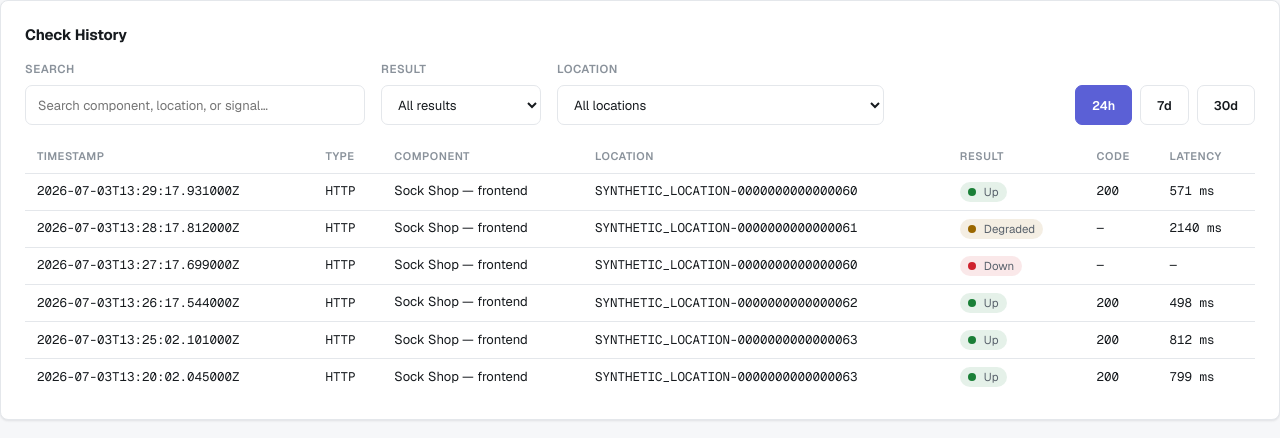
CheckHistoryPage › the search input filters rows by component, location, or signal_key text, client-side (AC1)
The width and height of the screenshot is (1280, 438).
Expected: the table is shown, [25,141,1255,395]
Step 1. Type "frontend-tls" into the search field labelled "Search" → (195, 105), box [25,85,365,125]
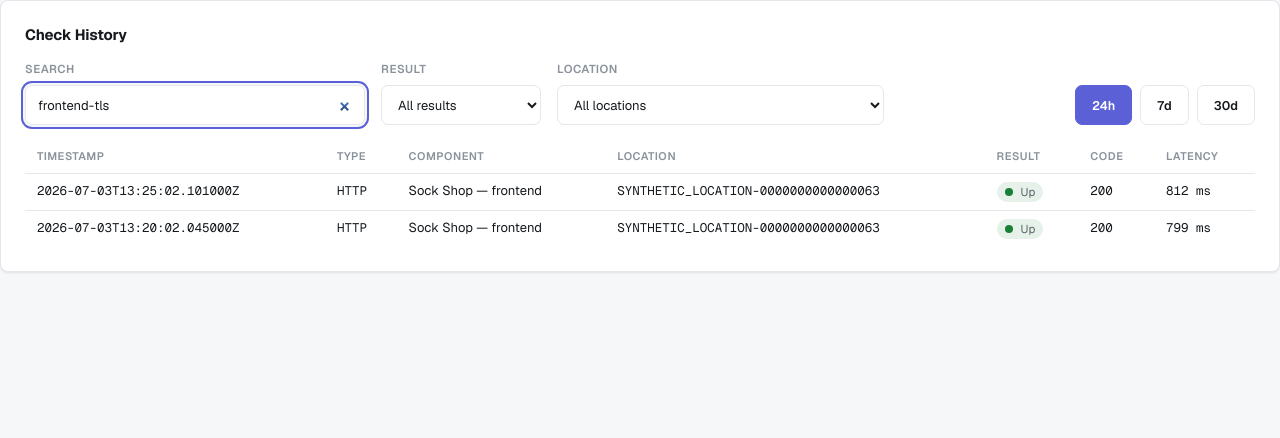
Expected: the text "2026-07-03T13:29:17.931000Z" is gone
